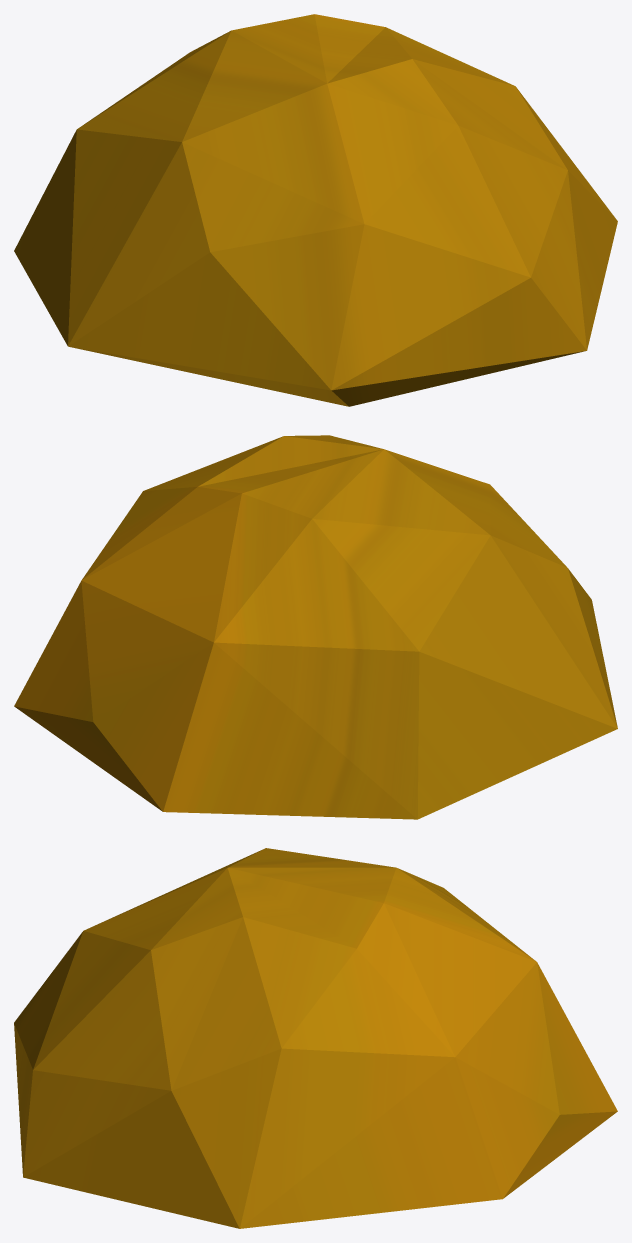
The model's file is WPlant_2.gltf.
3 renders of one model, top to bottom at view 1: azimuth 30°, elevation 25°; view 2: azimuth 150°, elevation 25°; view 3: azimuth 270°, elevation 25°, orthographic.
Visible parts, largest first — view 1: WPlant_2; view 2: WPlant_2; view 3: WPlant_2.
Part boxes in pixels (bbox=[...]): WPlant_2: bbox=[14, 14, 617, 406]; WPlant_2: bbox=[14, 435, 617, 819]; WPlant_2: bbox=[14, 848, 617, 1228].
Bounding box in the file's own units: 0.9453 × 0.3984 × 0.9052.
Materials: 1 (1 with a texture image).
